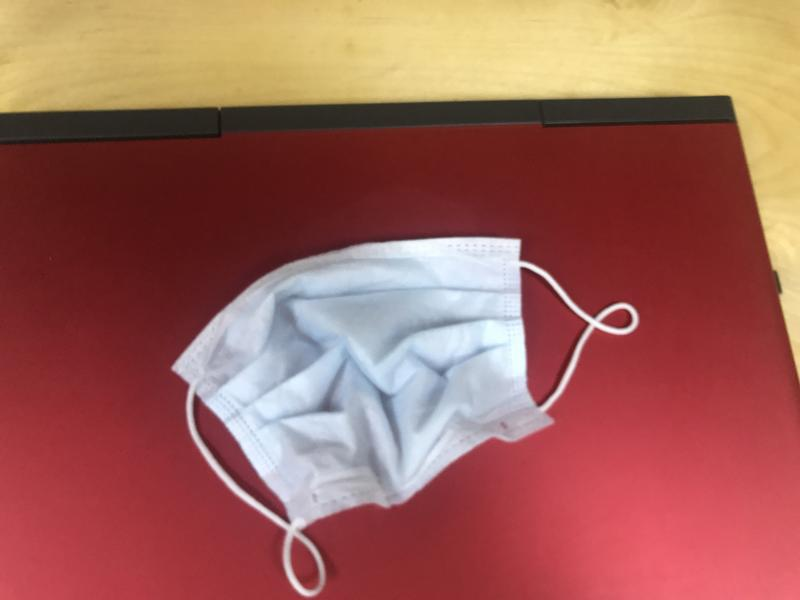medical_mask: (168, 239, 638, 596)
